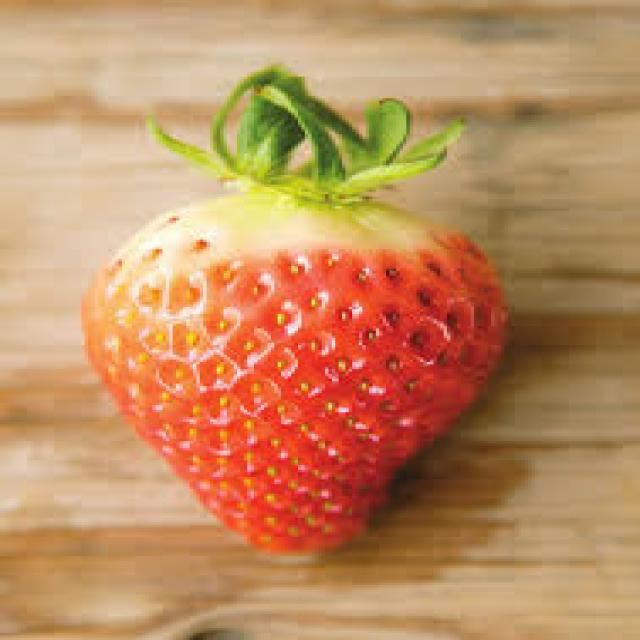mature: (82, 190, 512, 552)
